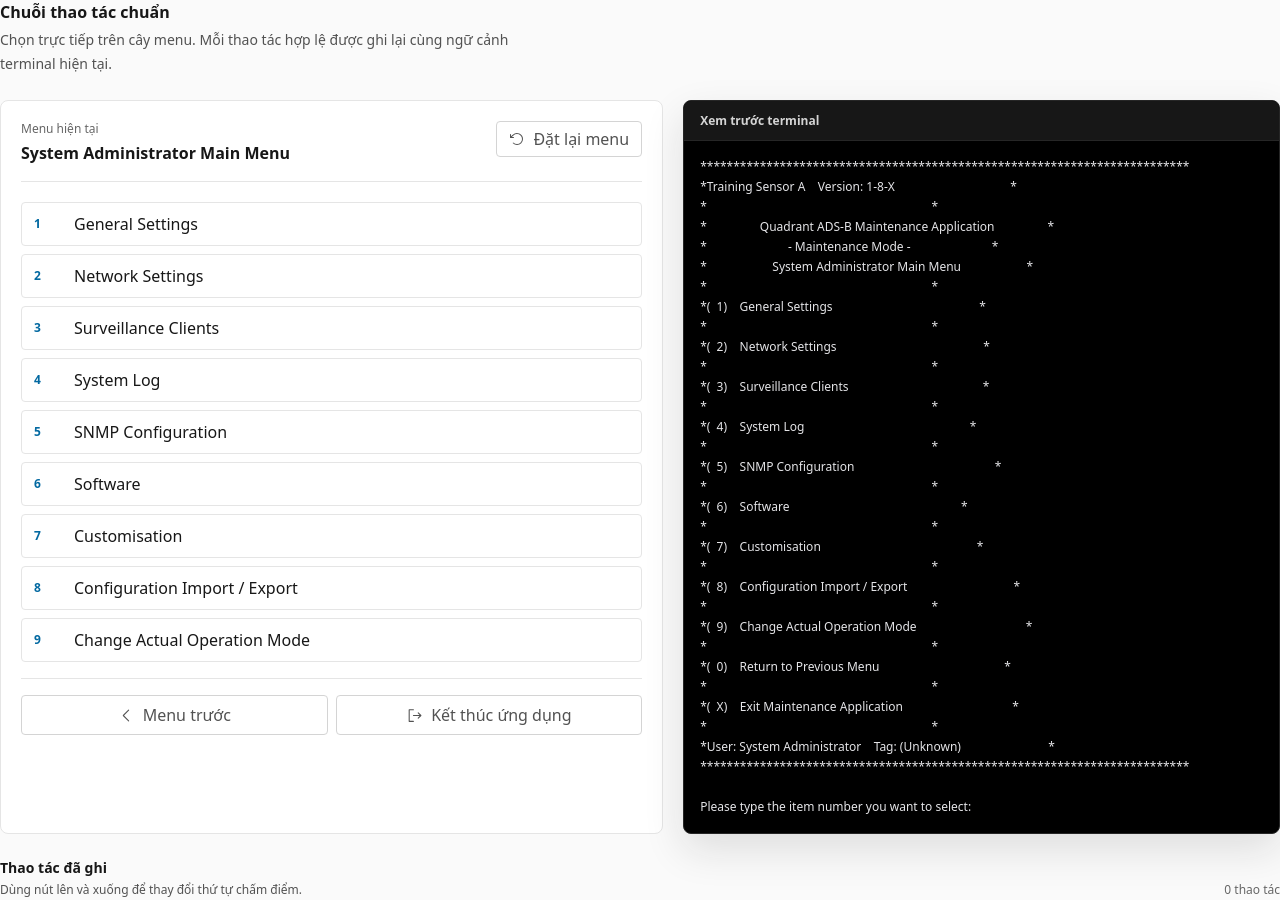
Test: ActionBuilder › removes and renumbers recorded actions
Click the button "1 General Settings" at (136, 224), box [21, 202, 642, 246]
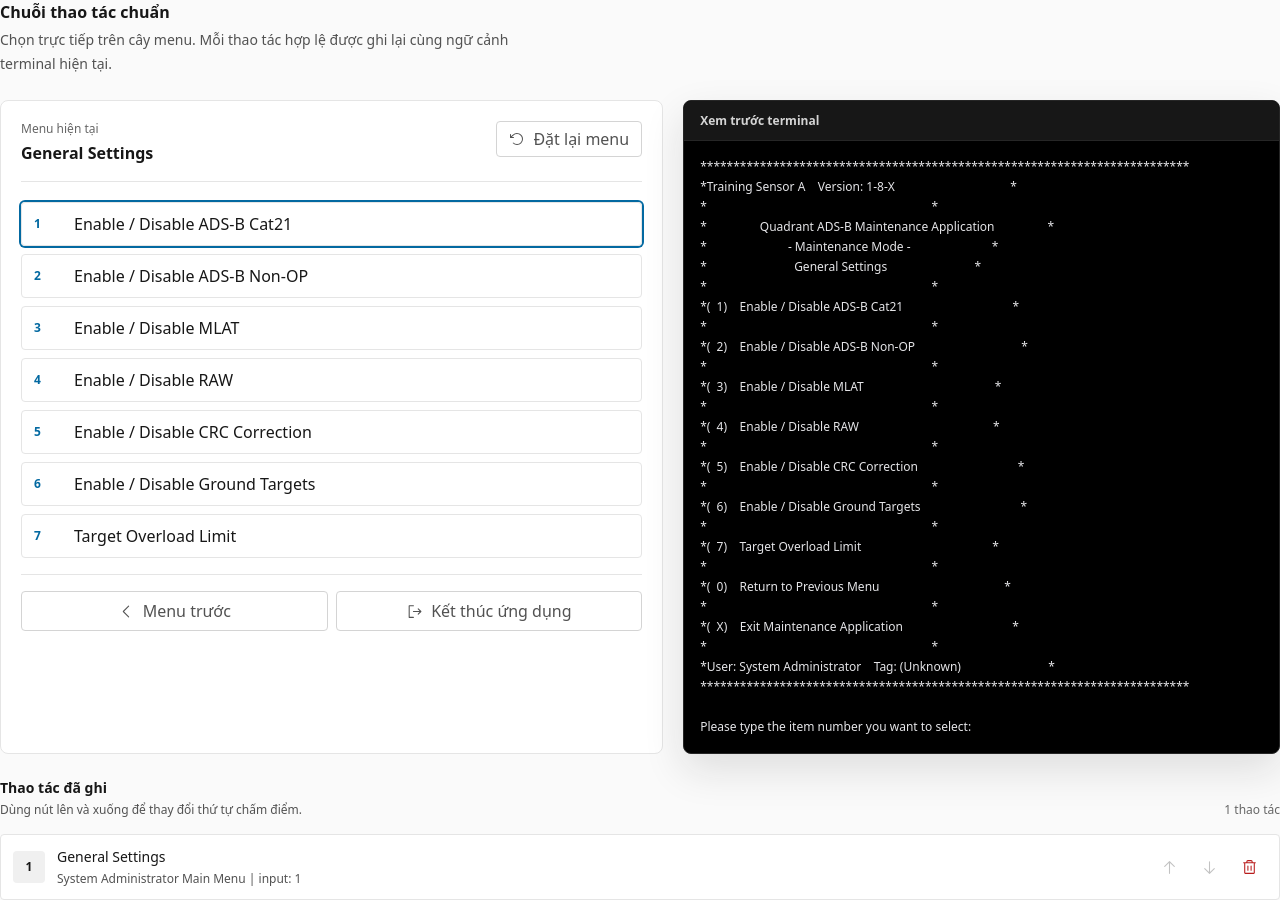
Click the button "1 Enable / Disable ADS-B Cat21" at (183, 224), box [21, 202, 642, 246]
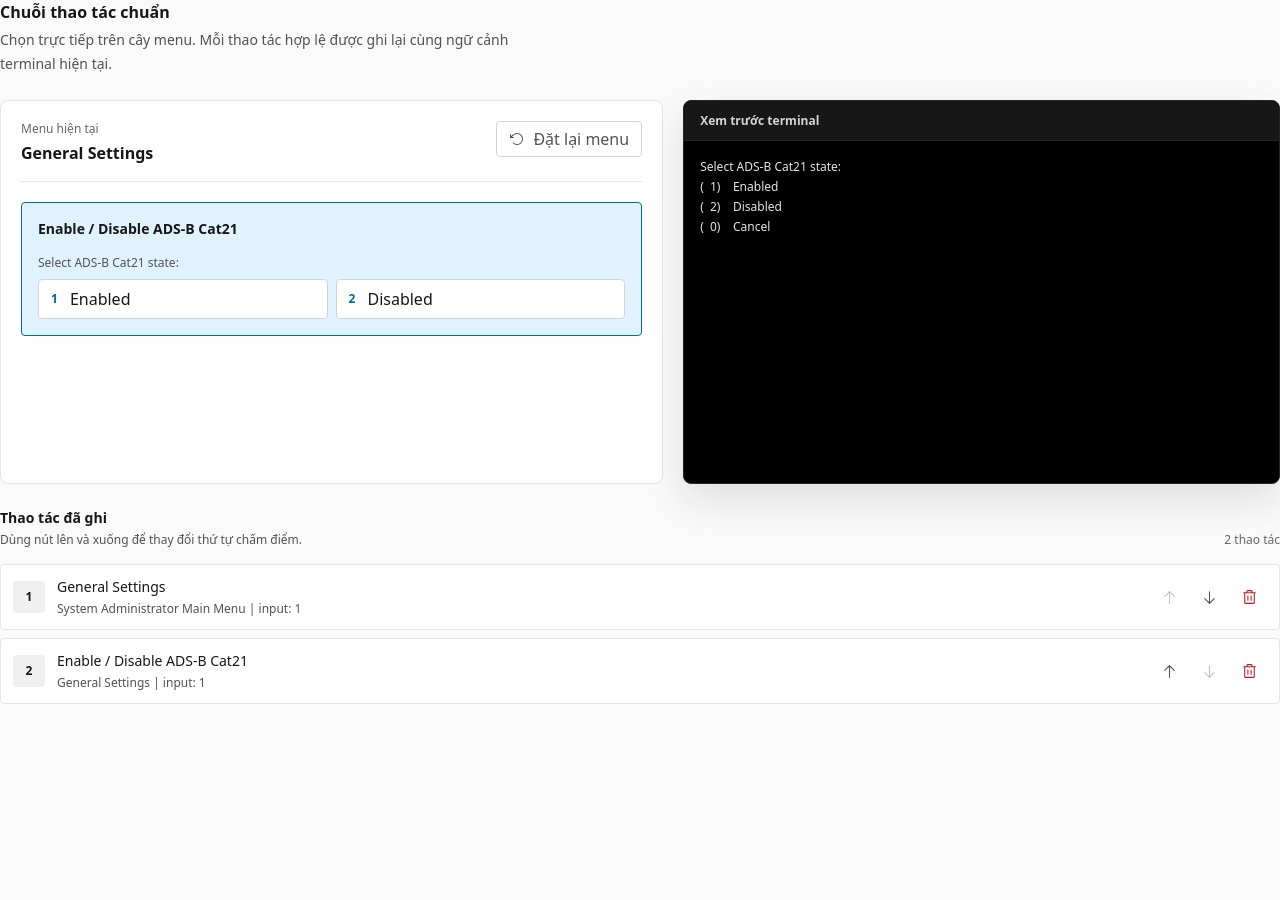
expect the text "2 thao tác" is shown: met, box [1224, 532, 1279, 548]
Click the button named "Xóa thao tác 1" at (1249, 597), box [1231, 579, 1267, 615]
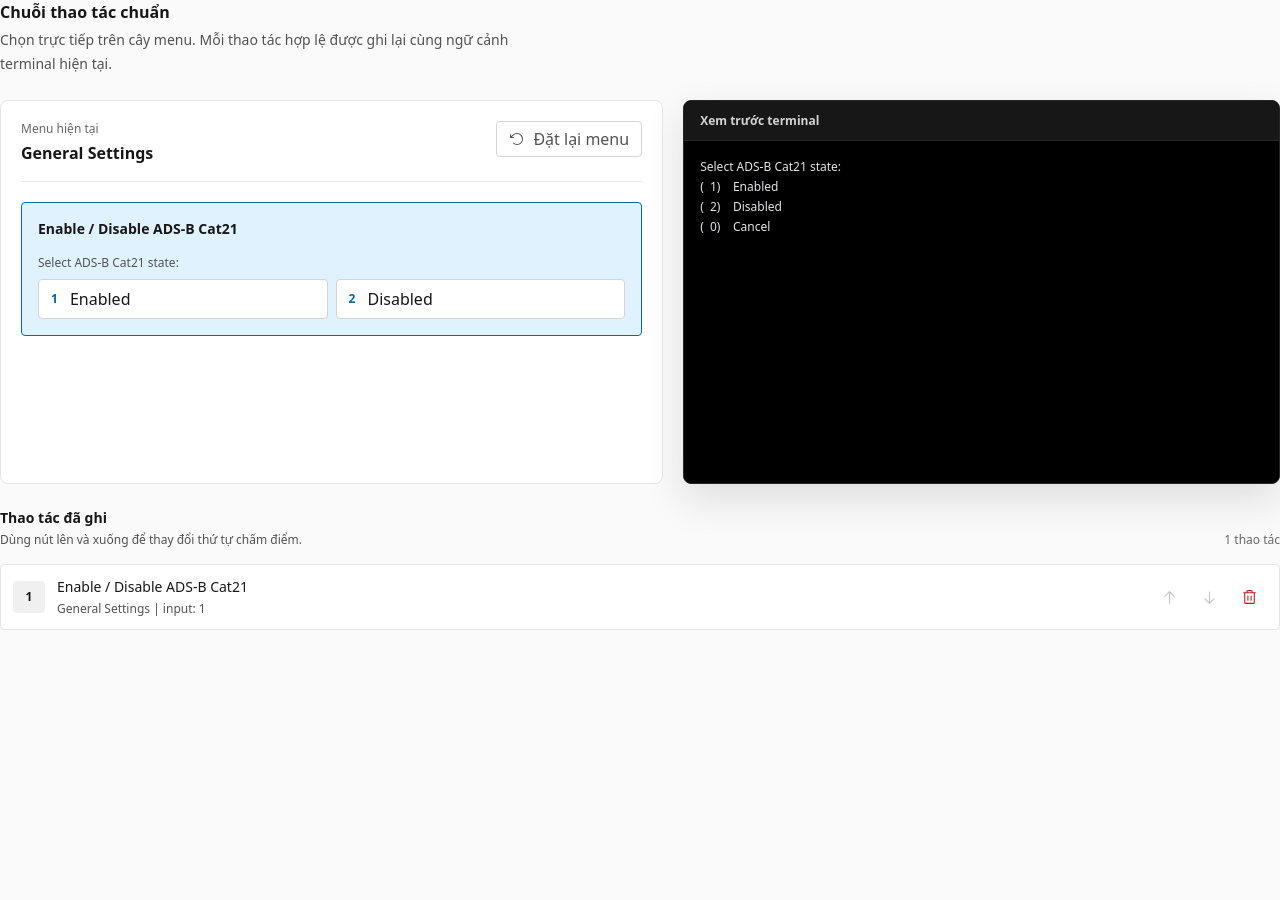
expect the text "1" in the row of "| input:" is shown: met, box [26, 588, 32, 605]
expect the text "1 thao tác" is shown: met, box [1224, 532, 1279, 548]
